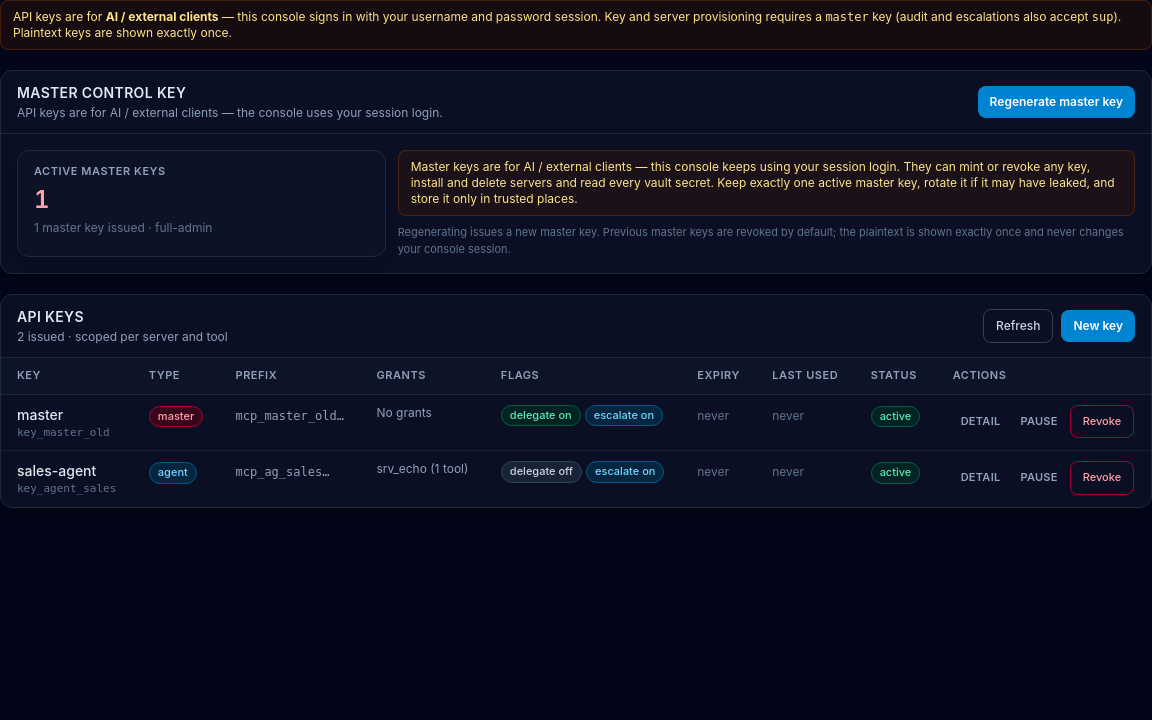
Test: RbacPage — master control key › sends revokePrevious:false when keeping existing master keys
The image size is (1152, 720).
Expected: the button "sales-agent" is shown, [17,461,96,481]
Click the button "Regenerate master key".
click(1056, 102)  # box [978,86,1135,118]
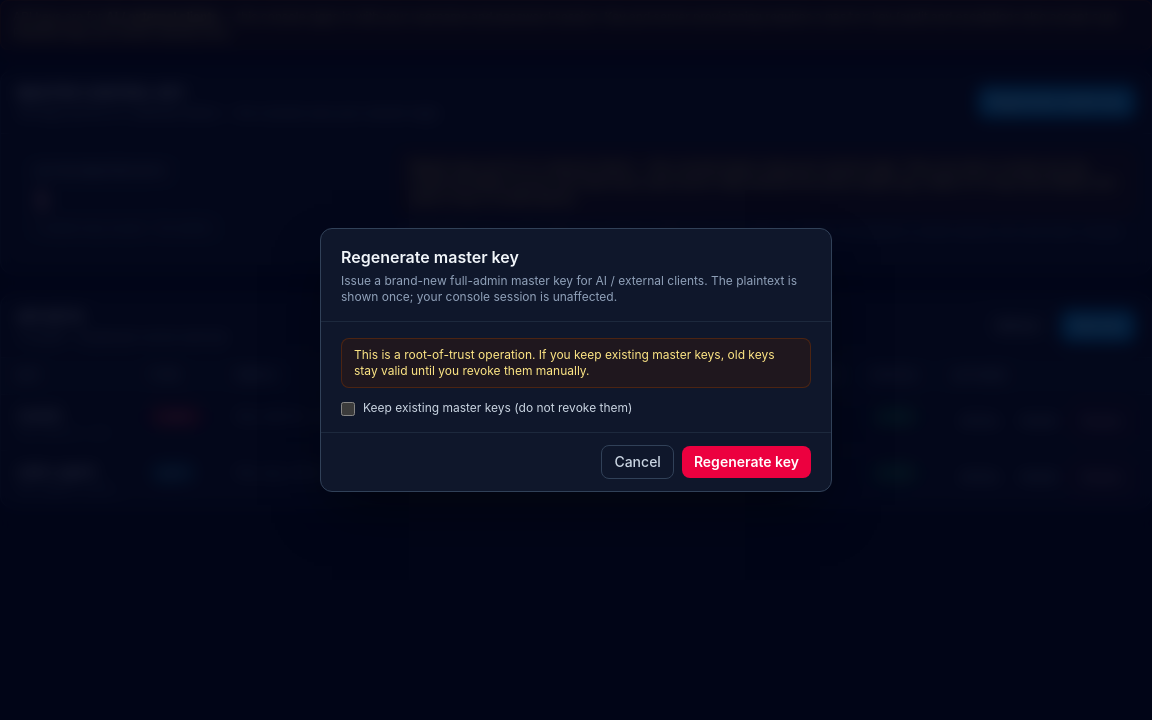
Click the checkbox labelled "Keep existing master keys (do not revoke them)".
click(348, 409)  # box [341,402,355,416]
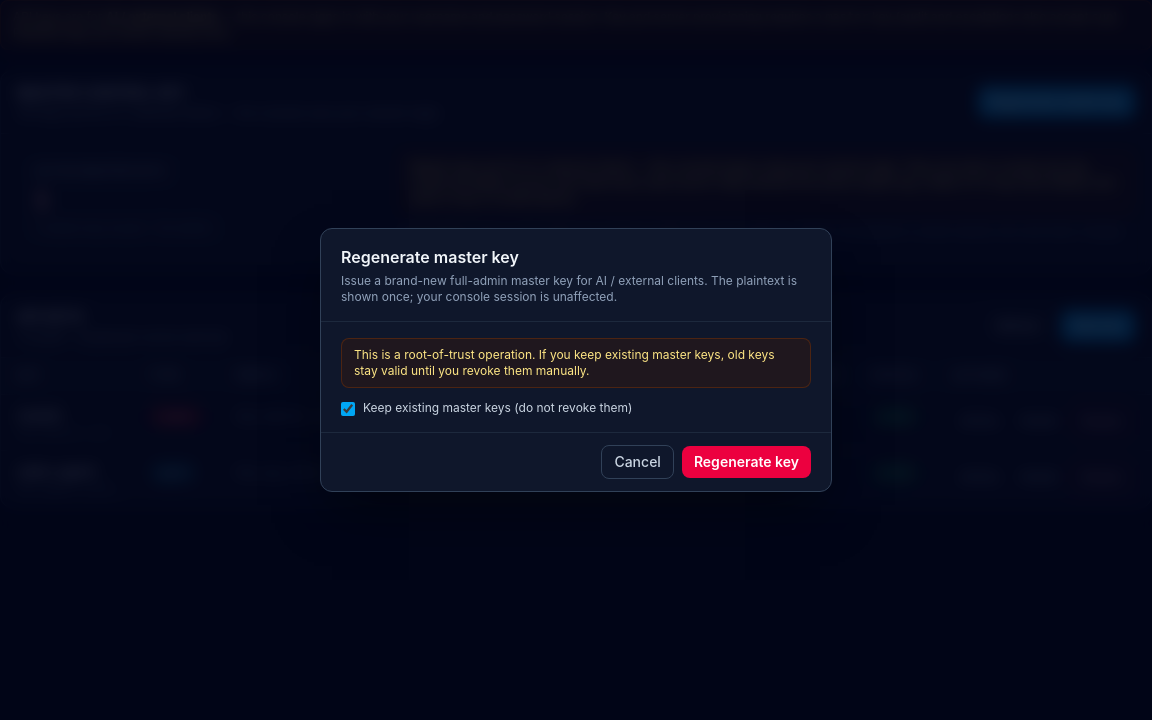
Click the button "Regenerate key".
click(746, 462)  # box [682,446,811,478]
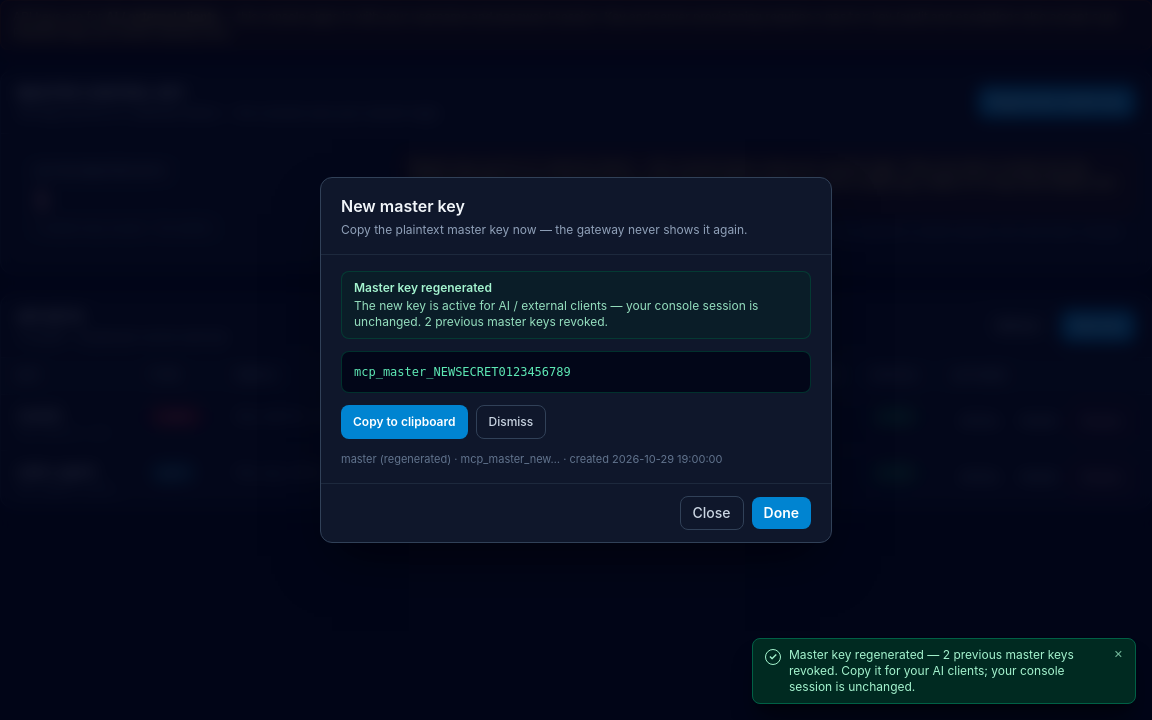
Expected: the text "mcp_master_NEWSECRET0123456789" is shown, [341,351,811,393]
